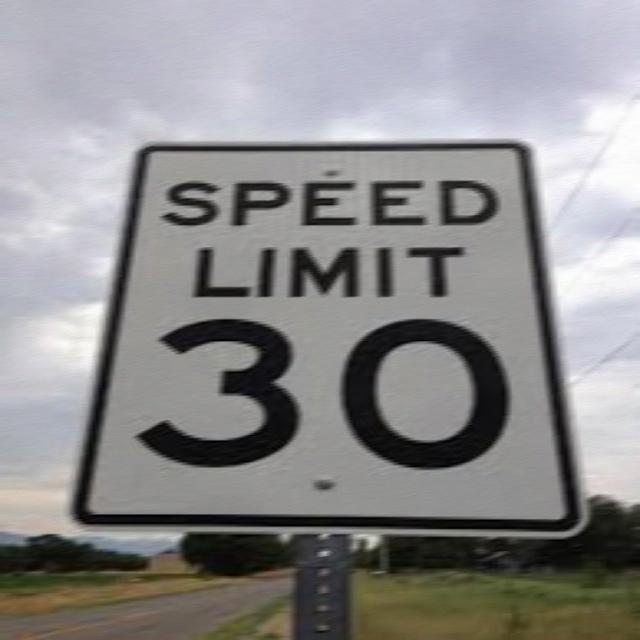speedLimit30: (55, 135, 596, 542)
